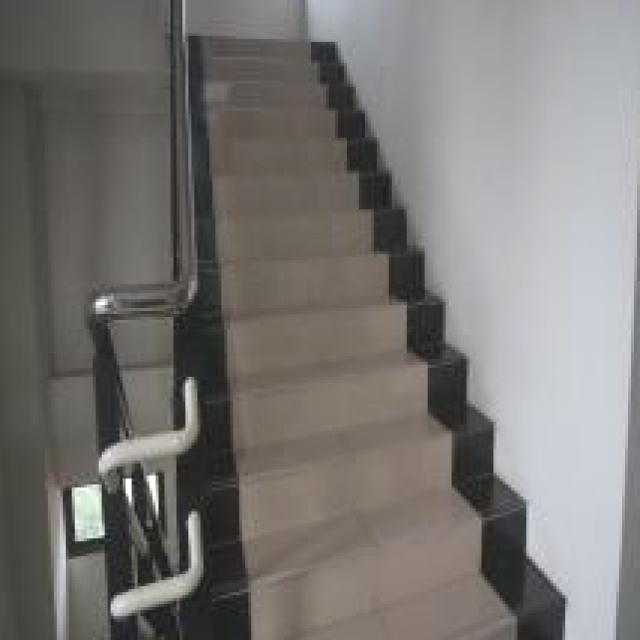upstair: (205, 22, 486, 640)
